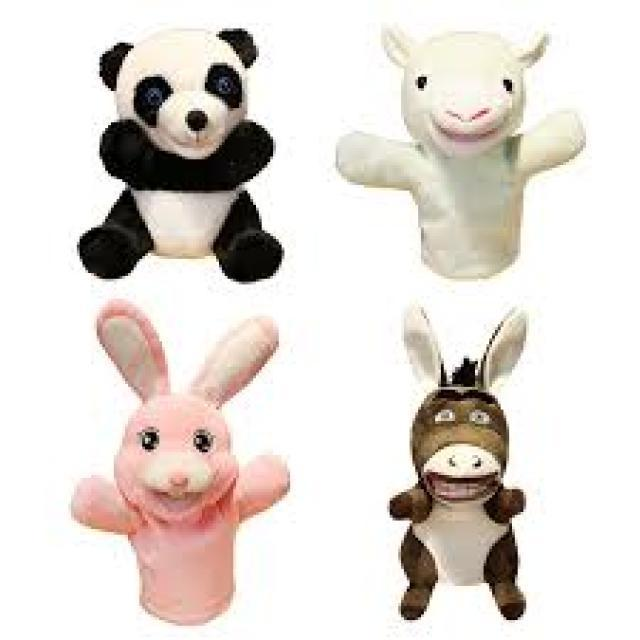soft-toy: (72, 302, 290, 625), (337, 31, 586, 279), (80, 30, 285, 282), (390, 306, 527, 621)
